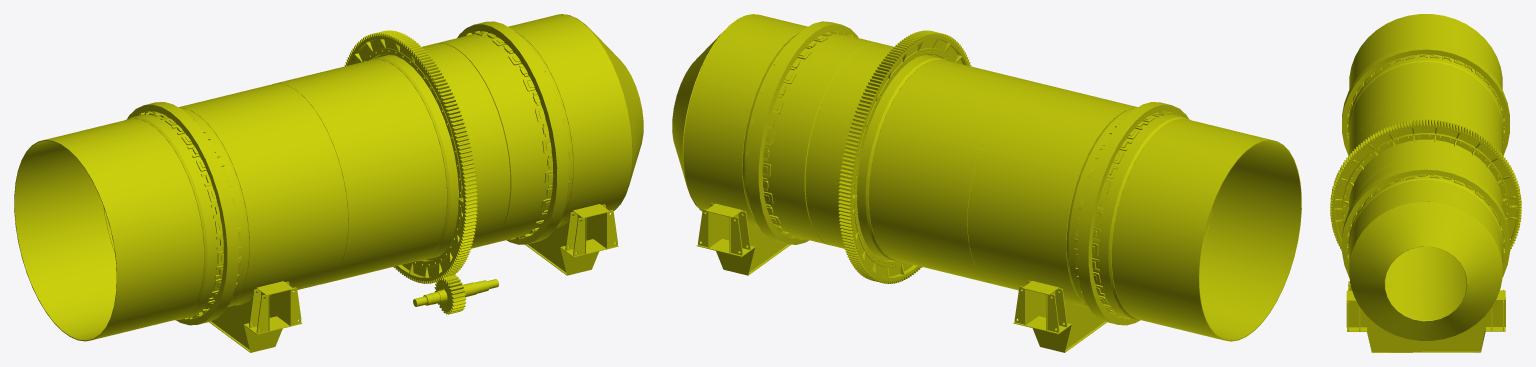
Rendered from tamborAmarillo.glb.
The picture shows the model from 3 angles, left to right: view 1: azimuth 30°, elevation 25°; view 2: azimuth 150°, elevation 25°; view 3: azimuth 270°, elevation 25°; orthographic projection. The views are drawn at different scales.
Visible parts, largest first — view 1: tambor; view 2: tambor; view 3: tambor.
Part boxes in pixels (left/top/right/bottom): tambor: left=14, top=14, right=643, bottom=352; tambor: left=672, top=14, right=1301, bottom=352; tambor: left=1330, top=14, right=1521, bottom=352.
Bounding box in the file's own units: 12.21 × 5.08 × 4.93.
